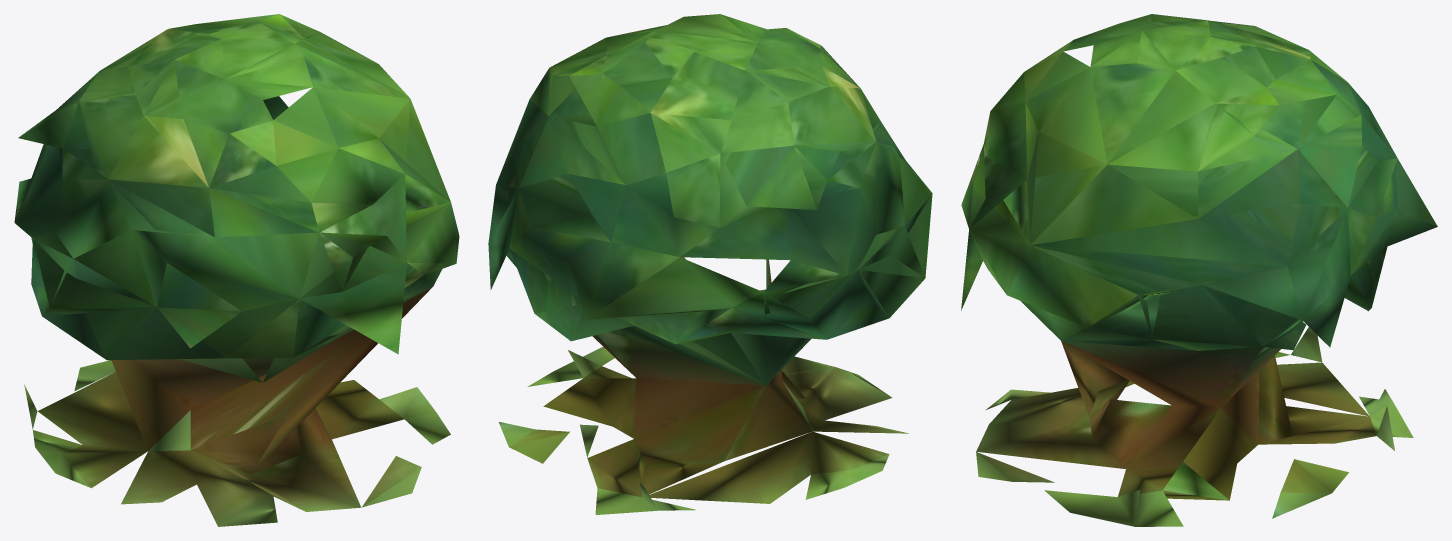
File: bush.glb
The picture shows the model from 3 angles, left to right: view 1: azimuth 30°, elevation 25°; view 2: azimuth 150°, elevation 25°; view 3: azimuth 270°, elevation 25°; orthographic projection. The views are drawn at different scales.
Visible parts, largest first — view 1: bush; view 2: bush; view 3: bush.
Part boxes in pixels (x1,y1,x2,y2): bush: [14, 14, 459, 526]; bush: [488, 14, 932, 514]; bush: [961, 14, 1437, 526].
Bounding box in the file's own units: 0.2665 × 0.2584 × 0.2762.
Materials: 1 (1 with a texture image).
